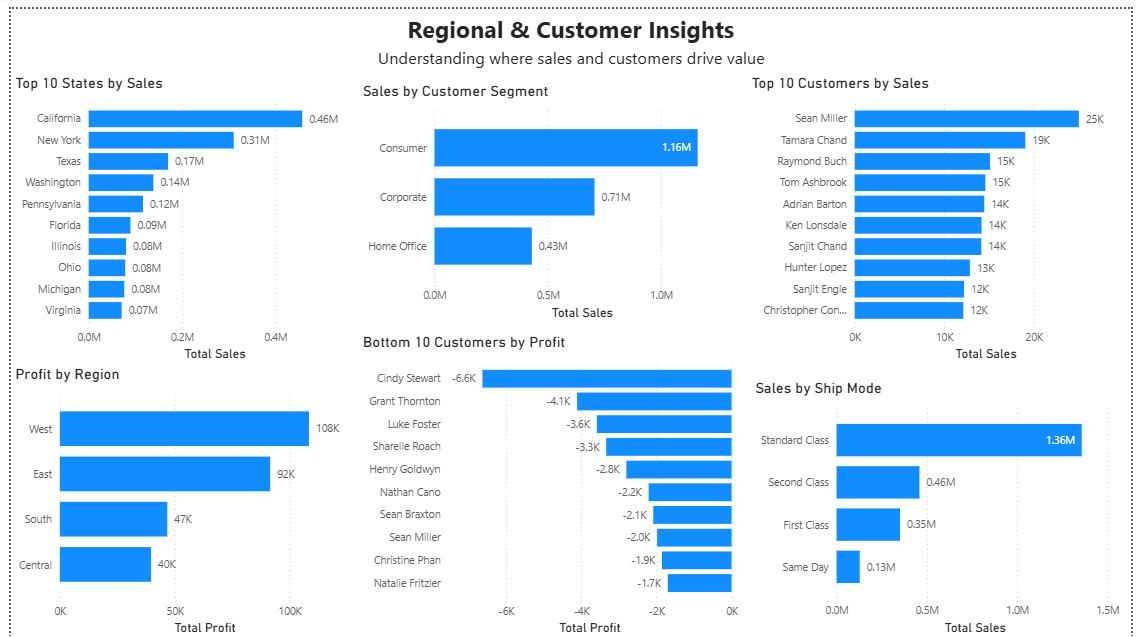

What the dashboard file says about the page in this screenshot:
{"tool":"powerbi","page":{"name":"Regional & Customer Insights","canvas":[1280,720],"ordinal":2},"visuals":[{"type":"textbox","box":[0,0,1280,82.5],"z":0},{"type":"clusteredBarChart","title":"Top 10 States by Sales","fields":{"Category":["Sample - Superstore.State"],"Y":["Sample - Superstore.Total Sales"]},"box":[0,74.3,397.1,332.9],"z":1000},{"type":"clusteredBarChart","title":"Profit by Region","fields":{"Category":["Sample - Superstore.Region"],"Y":["Sample - Superstore.Total Profit"]},"box":[0,407.1,407.1,312.9],"z":2000},{"type":"clusteredBarChart","title":"Sales by Customer Segment","fields":{"Category":["Sample - Superstore.Segment"],"Y":["Sample - Superstore.Total Sales"]},"box":[397.1,82.9,444.3,277.1],"z":3000},{"type":"clusteredBarChart","title":" Sales by Ship Mode","fields":{"Y":["Sample - Superstore.Total Sales"],"Category":["Sample - Superstore.Ship Mode"]},"box":[845.7,422.9,434.3,297.1],"z":4000},{"type":"clusteredBarChart","title":"Bottom 10 Customers by Profit","fields":{"Category":["Sample - Superstore.Customer Name"],"Y":["Sample - Superstore.Total Profit"]},"box":[397.1,370,438.6,350],"z":5000},{"type":"clusteredBarChart","title":"Top 10 Customers by Sales","fields":{"Y":["Sample - Superstore.Total Sales"],"Category":["Sample - Superstore.Customer Name"]},"box":[841.4,74.3,438.6,332.9],"z":6000}]}

Visuals, with their boxes in screenshot pixels (x1, y1, x2, y2), scaled from the page's 1280x720 canvas onto the 1136x637 screenshot:
textbox: detection(0, 0, 1135, 73)
"Top 10 States by Sales" clusteredBarChart: detection(0, 66, 352, 360)
"Profit by Region" clusteredBarChart: detection(0, 360, 361, 636)
"Sales by Customer Segment" clusteredBarChart: detection(352, 73, 747, 318)
" Sales by Ship Mode" clusteredBarChart: detection(751, 374, 1135, 636)
"Bottom 10 Customers by Profit" clusteredBarChart: detection(352, 327, 742, 636)
"Top 10 Customers by Sales" clusteredBarChart: detection(747, 66, 1135, 360)
